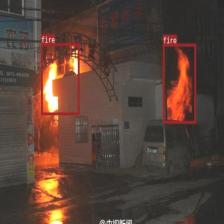fire: (41, 43, 79, 115), (162, 43, 196, 123)
